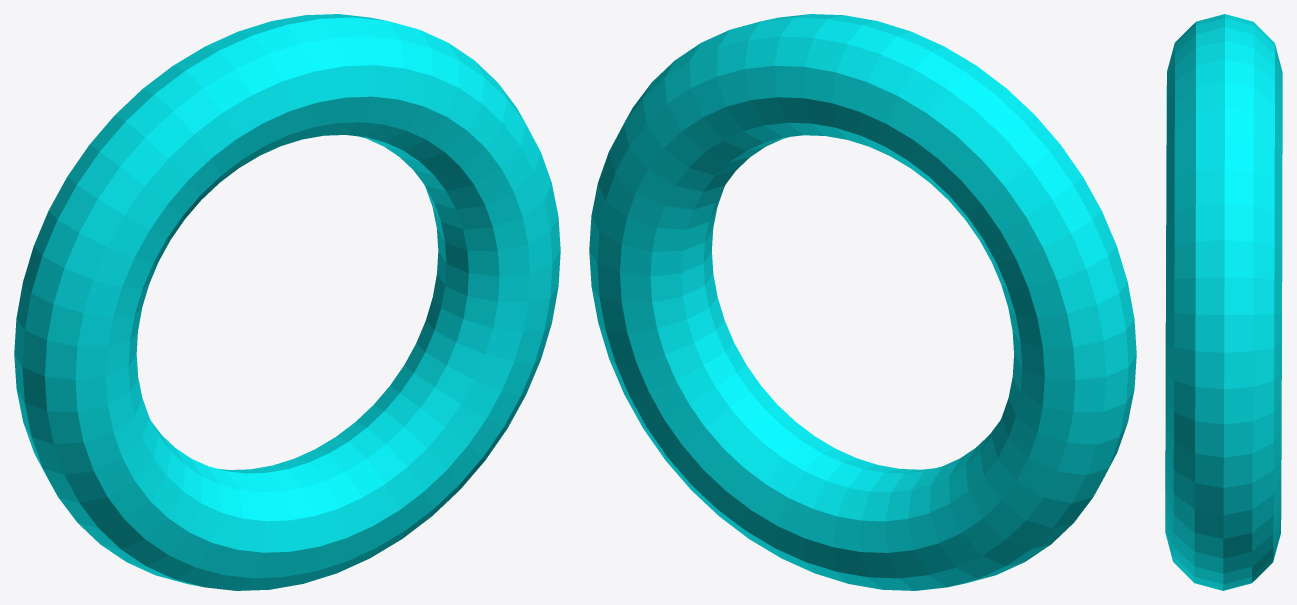
File: bolt.fbx
3 views of the same model, side by side, from view 1: azimuth 30°, elevation 25°; view 2: azimuth 150°, elevation 25°; view 3: azimuth 270°, elevation 25° (orthographic). The views are drawn at different scales.
Visible parts, largest first — view 1: Torus; view 2: Torus; view 3: Torus.
Boxes of the visible parts, x1,y1,x2,y2 form: Torus: [14, 14, 560, 590]; Torus: [589, 14, 1136, 590]; Torus: [1165, 14, 1282, 590].
Bounding box in the file's own units: 250 × 250 × 50.71.
